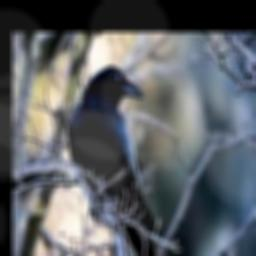Crow: (67, 65, 159, 256)
